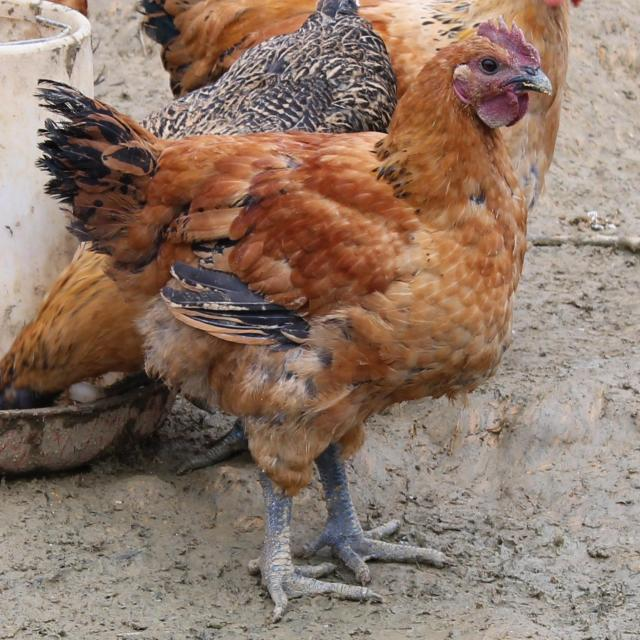hen: (29, 15, 619, 640)
